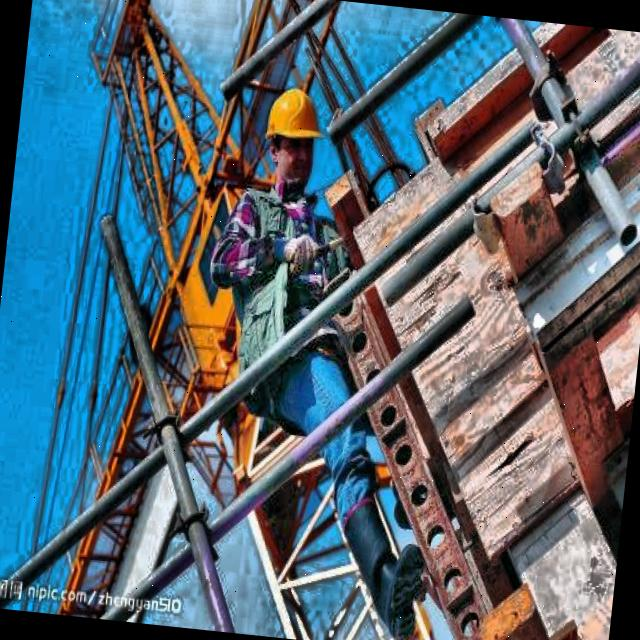helmet: (254, 74, 326, 190)
